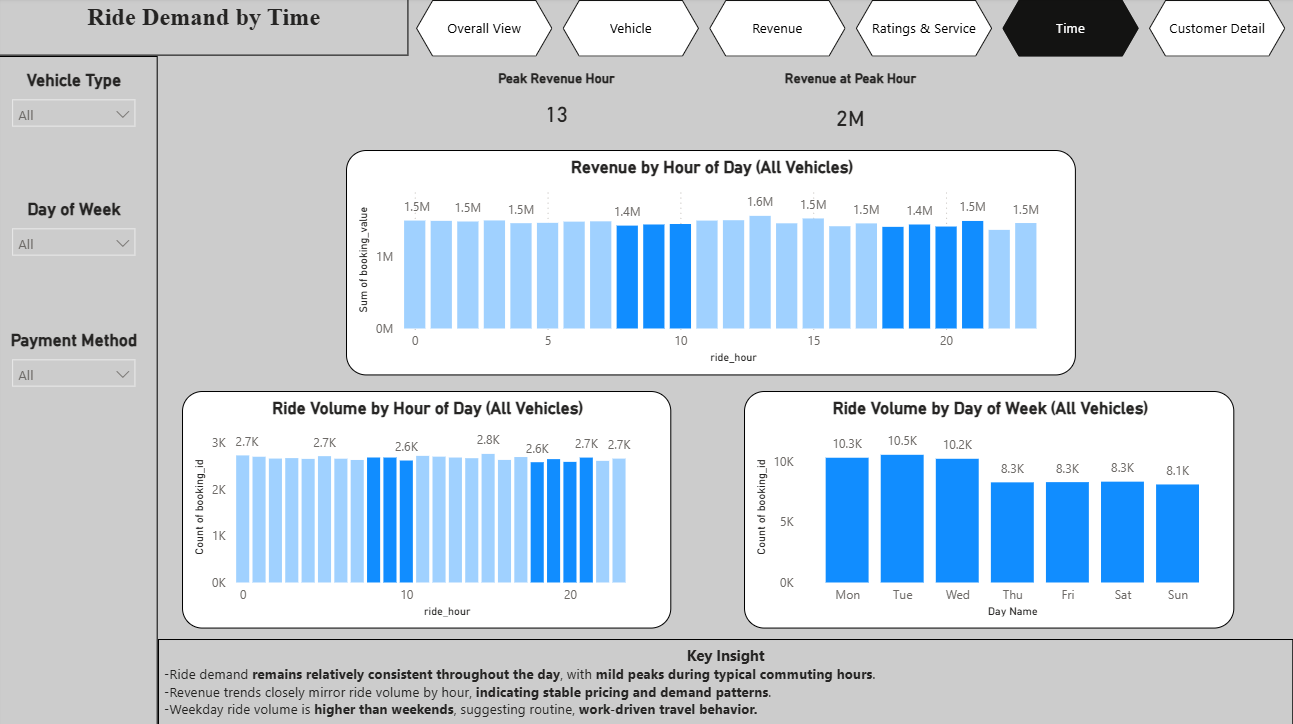

The dashboard page shown, as its layout file describes it:
{"tool":"powerbi","page":{"name":"Time","canvas":[1280,720],"ordinal":4},"visuals":[{"type":"textbox","box":[0,0,405.2,56.9],"z":0},{"type":"clusteredColumnChart","fields":{"Y":["CountNonNull(ola_rides_cleaned.booking_id)"],"Category":["ola_rides_cleaned.ride_hour"]},"box":[181.4,388.5,483.7,235.4],"z":1000},{"type":"clusteredColumnChart","fields":{"Y":["CountNonNull(ola_rides_cleaned.booking_id)"],"Category":["ola_rides_cleaned.Day Name"]},"box":[737.1,388.5,485,235.4],"z":2000},{"type":"textbox","box":[157,634,1123,86.3],"z":3000},{"type":"clusteredColumnChart","fields":{"Category":["ola_rides_cleaned.ride_hour"],"Y":["Sum(ola_rides_cleaned.booking_value)"]},"box":[343.5,150.5,721.7,222.6],"z":4000},{"type":"shape","box":[0,56.9,157,663.3],"z":5000},{"type":"slicer","title":"Vehicle Type","fields":{"Values":["ola_rides_cleaned.vehicle_type"]},"box":[3.5,71.6,142.3,85.4],"z":6000},{"type":"slicer","title":"Day of Week","fields":{"Values":["ola_rides_cleaned.ride_day"]},"box":[3.5,198.4,142.3,84.5],"z":7000},{"type":"slicer","title":"Payment Method","fields":{"Values":["ola_rides_cleaned.payment_method"]},"box":[3.5,328.6,142.3,84.5],"z":8000},{"type":"pageNavigator","box":[412.7,1.7,860.7,56.1],"z":9000},{"type":"card","title":"Peak Revenue Hour","fields":{"Values":["ola_rides_cleaned.Peak Revenue Hour"]},"box":[427.1,72,248.3,70.8],"z":9001,"group":"g1"},{"type":"card","title":"Revenue at Peak Hour","fields":{"Values":["ola_rides_cleaned.Peak Hour Revenue"]},"box":[714,72,256,78.5],"z":9002,"group":"g1"},{"type":"group","id":"g1","title":"Group 1","box":[427.1,72,542.9,78.5],"z":9003}]}

Visuals, with their boxes in screenshot pixels (x1, y1, x2, y2), scaled from the page's 1280x720 canvas onto the 1293x724 screenshot:
textbox: 0 0 409 57
clusteredColumnChart - CountNonNull(ola_rides_cleaned.booking_id) x ola_rides_cleaned.ride_hour: 183 391 672 627
clusteredColumnChart - CountNonNull(ola_rides_cleaned.booking_id) x ola_rides_cleaned.Day Name: 745 391 1235 627
textbox: 159 638 1292 723
clusteredColumnChart - ola_rides_cleaned.ride_hour x Sum(ola_rides_cleaned.booking_value): 347 151 1076 375
shape: 0 57 159 723
"Vehicle Type" slicer: 4 72 147 158
"Day of Week" slicer: 4 200 147 284
"Payment Method" slicer: 4 330 147 415
pageNavigator: 417 2 1286 58
"Peak Revenue Hour" card: 431 72 682 144
"Revenue at Peak Hour" card: 721 72 980 151
"Group 1" group: 431 72 980 151
